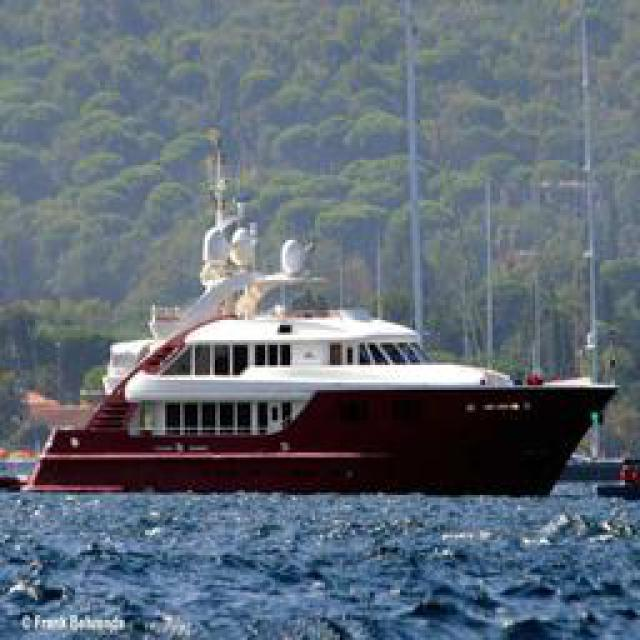Ship: (22, 225, 615, 488)
